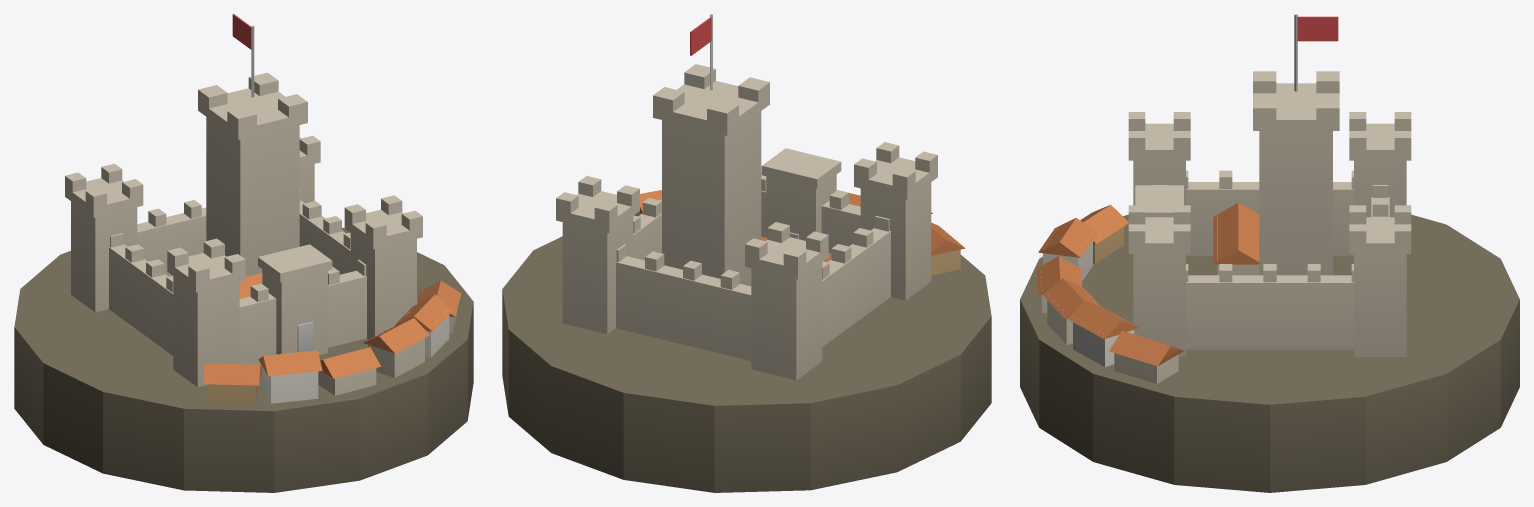
File: castle_med_a.glb
3 views of the same model, side by side, from view 1: azimuth 30°, elevation 25°; view 2: azimuth 150°, elevation 25°; view 3: azimuth 270°, elevation 25° (orthographic). The views are drawn at different scales.
Visible parts, largest first — view 1: castle_med_a; view 2: castle_med_a; view 3: castle_med_a.
Part boxes in pixels (bbox=[...]): castle_med_a: bbox=[14, 14, 473, 492]; castle_med_a: bbox=[502, 14, 991, 492]; castle_med_a: bbox=[1020, 14, 1519, 492].
Size of the model in its own units: 1.9 by 1.61 by 1.9.
